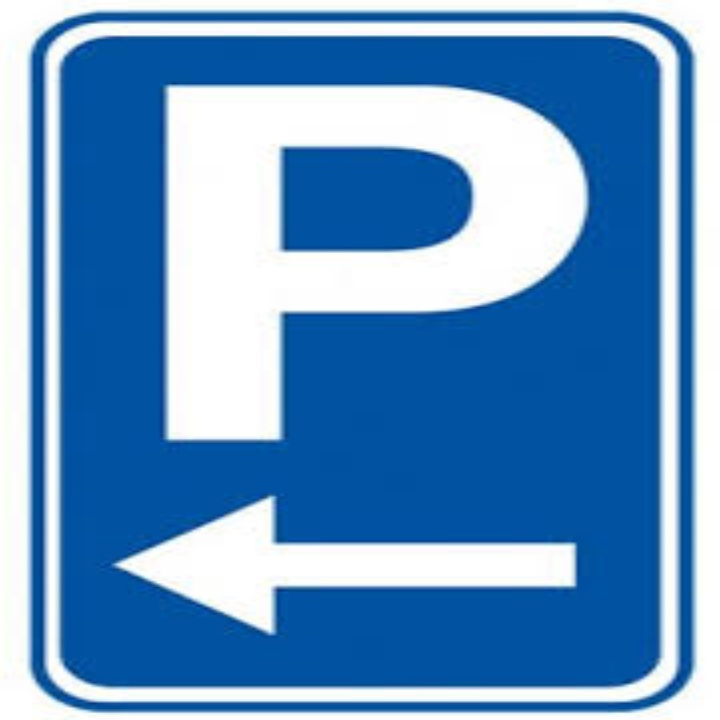parking: (155, 78, 599, 454)
